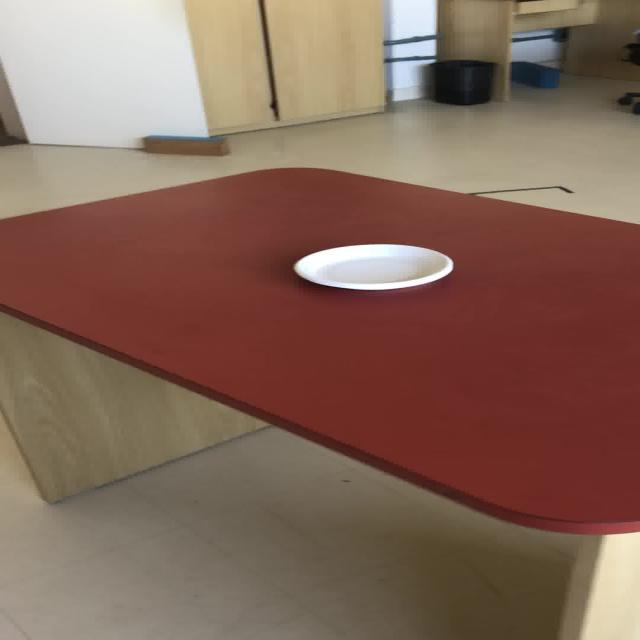plate: (292, 243, 452, 290)
